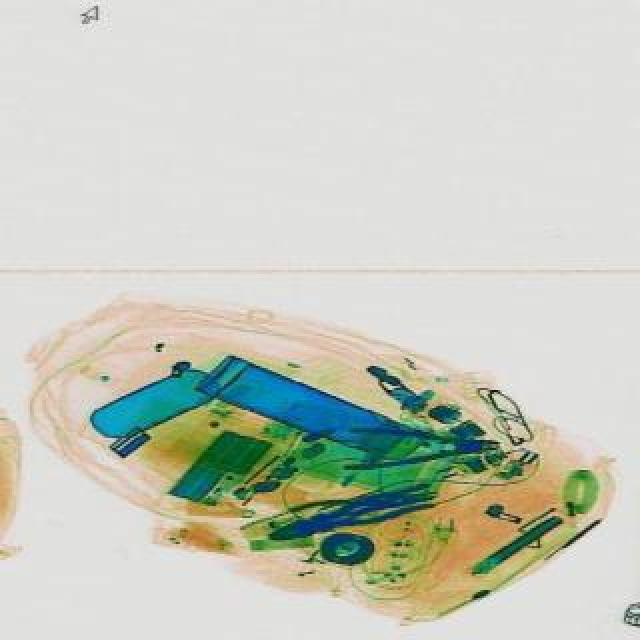wrench: (268, 478, 440, 546), (346, 424, 502, 468), (294, 482, 438, 528)
